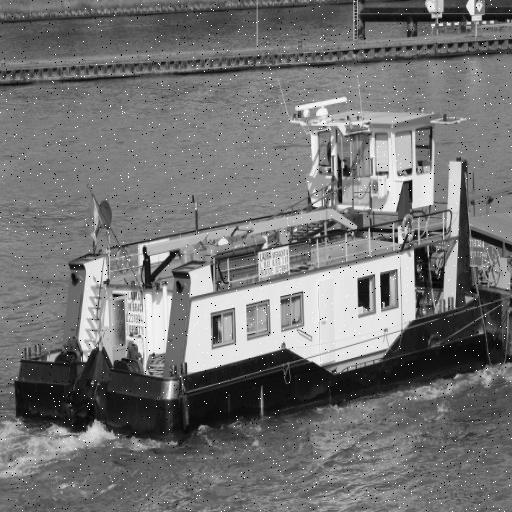tugboat: (12, 94, 512, 450)
